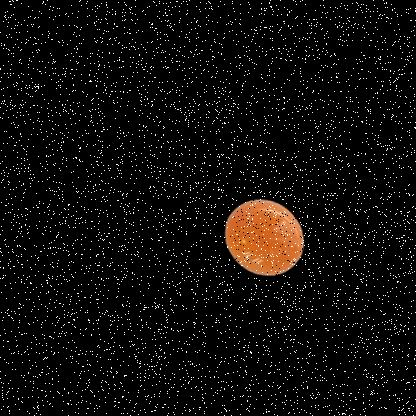welood: (213, 170, 319, 298)
